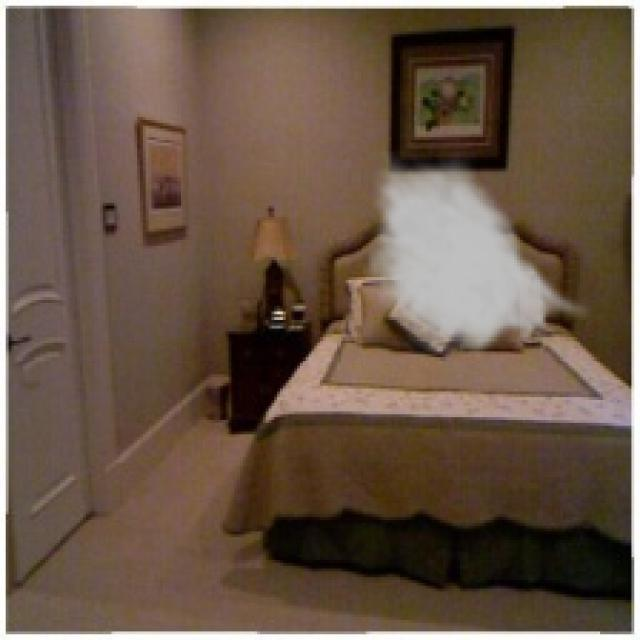Smoke: (363, 148, 594, 360)
